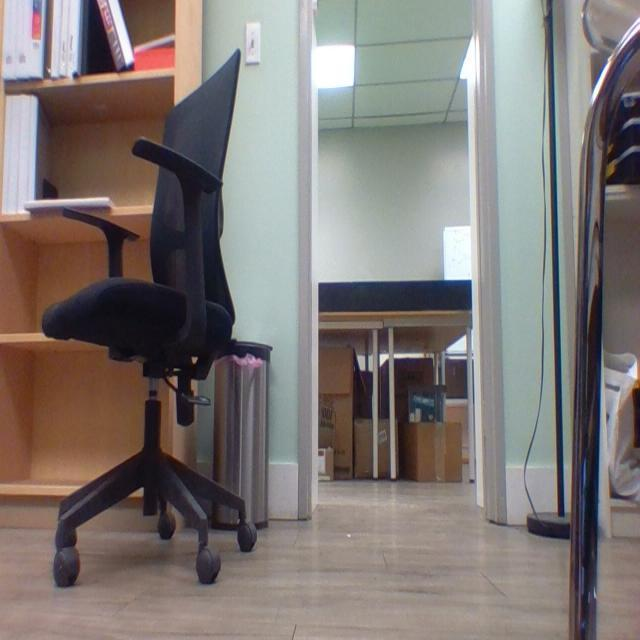chair: (46, 31, 317, 624)
